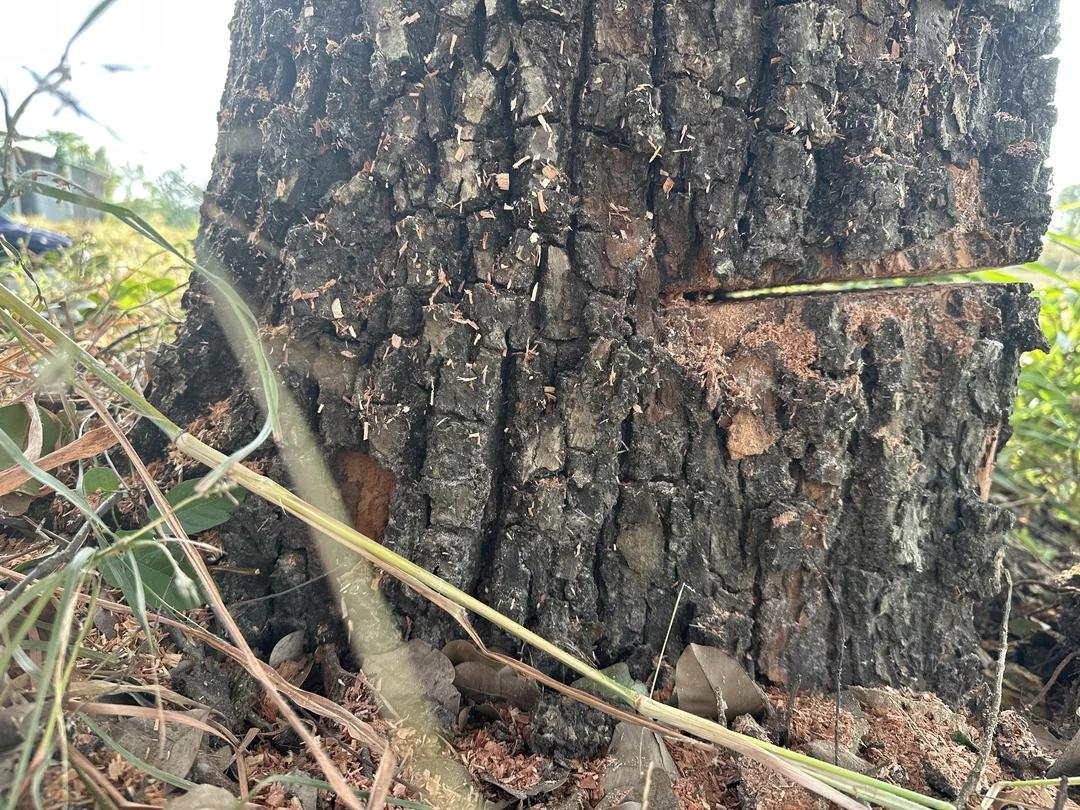mechanical damage: (673, 249, 1033, 319)
